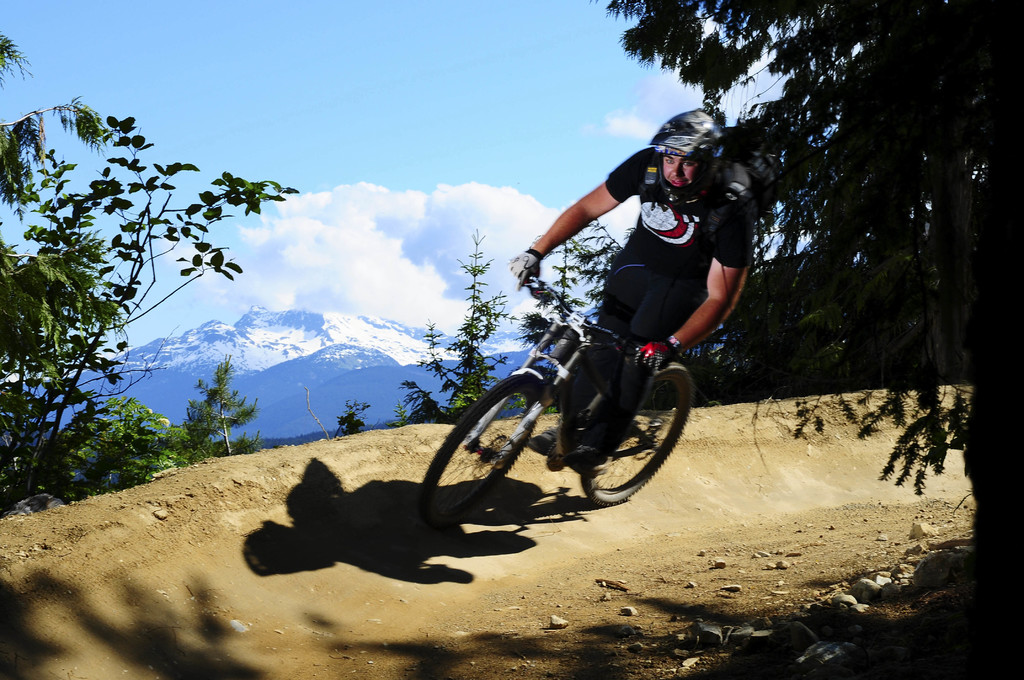Bicycle: (414, 270, 737, 530)
